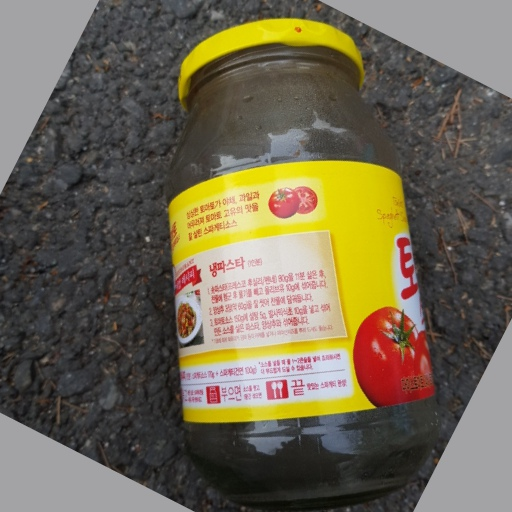Glass_5: (159, 16, 440, 511)
